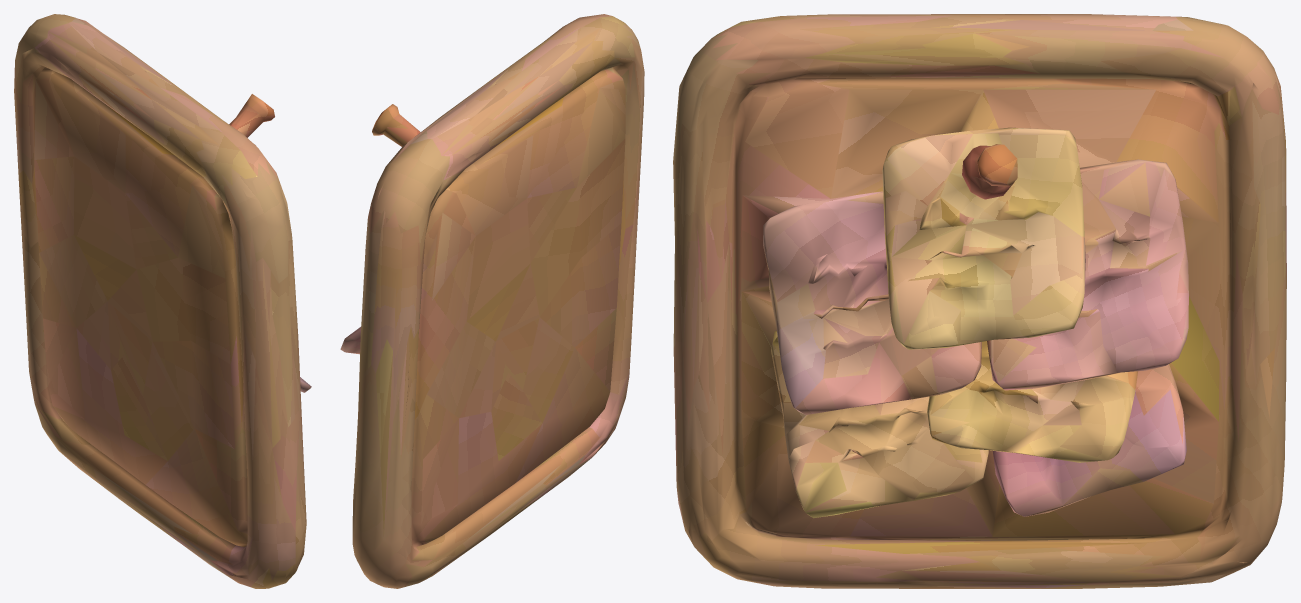
The model's file is KR_사물_s1_office_memo.glb.
The picture shows the model from 3 angles, left to right: view 1: azimuth 30°, elevation 25°; view 2: azimuth 150°, elevation 25°; view 3: azimuth 270°, elevation 25°; orthographic projection. The views are drawn at different scales.
Visible parts, largest first — view 1: tripo_node_f22bf1fa-aa30-40f4-9d18-ee53bd7342c4; view 2: tripo_node_f22bf1fa-aa30-40f4-9d18-ee53bd7342c4; view 3: tripo_node_f22bf1fa-aa30-40f4-9d18-ee53bd7342c4.
Boxes of the visible parts, x1,y1,x2,y2 form: tripo_node_f22bf1fa-aa30-40f4-9d18-ee53bd7342c4: [14, 14, 311, 588]; tripo_node_f22bf1fa-aa30-40f4-9d18-ee53bd7342c4: [340, 14, 644, 588]; tripo_node_f22bf1fa-aa30-40f4-9d18-ee53bd7342c4: [673, 14, 1286, 588].
Bounding box in the file's own units: 0.3583 × 0.9997 × 0.9991.
1 material, 1 textured.
